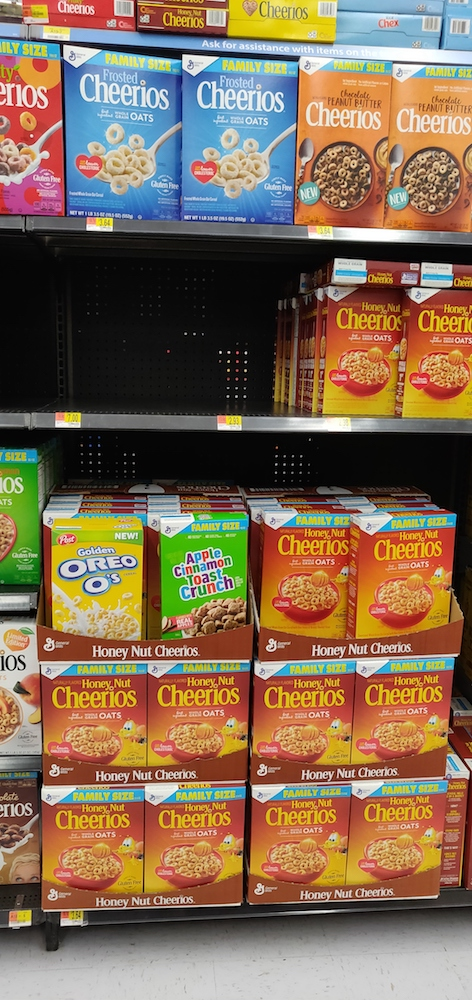Oreo Golden-568301011: (51, 517, 144, 644)
